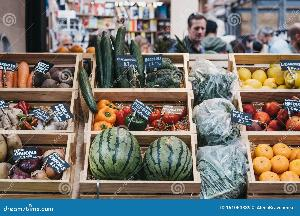beet: (30, 56, 74, 92)
bell_pepper: (91, 96, 149, 132)
carrot: (0, 56, 36, 92)
cucumber: (80, 33, 148, 95)
garlic: (0, 94, 72, 136)
lemon: (232, 54, 300, 90)
melon: (84, 131, 194, 189)
onion: (20, 133, 66, 193)
orange: (246, 136, 300, 186)
peach: (238, 91, 300, 132)
tomato: (149, 91, 193, 133)
